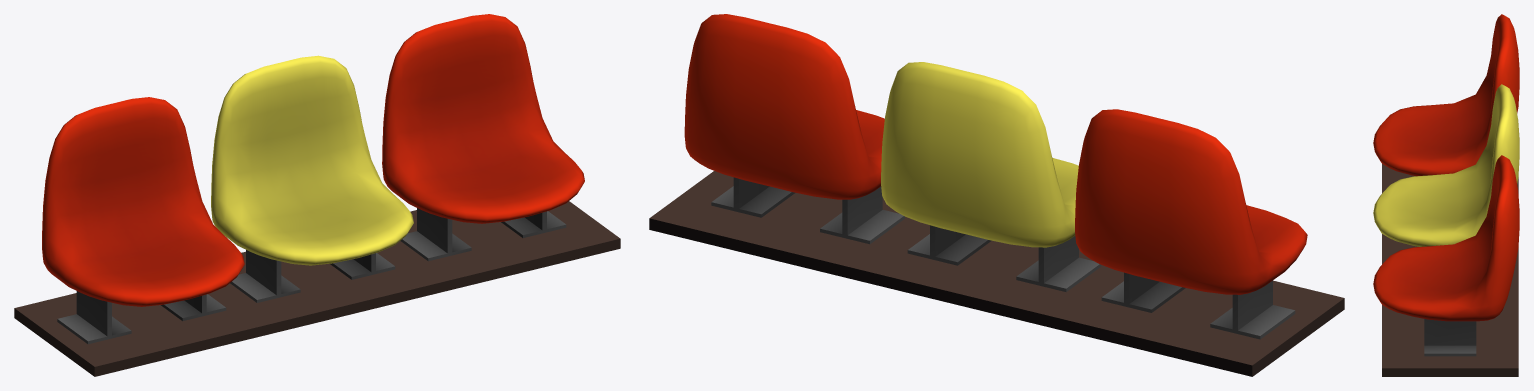
The model's file is StadiumChairs_Three.fbx.
3 views of the same model, side by side, from view 1: azimuth 30°, elevation 25°; view 2: azimuth 150°, elevation 25°; view 3: azimuth 270°, elevation 25° (orthographic). The views are drawn at different scales.
Visible parts, largest first — view 1: StadiumChairs_Three; view 2: StadiumChairs_Three; view 3: StadiumChairs_Three.
Boxes of the visible parts, x1=… form: StadiumChairs_Three: x1=14, y1=14, x2=620, y2=376; StadiumChairs_Three: x1=649, y1=14, x2=1344, y2=376; StadiumChairs_Three: x1=1373, y1=14, x2=1519, y2=376.
Size of the model in its own units: 235 by 84.77 by 66.82.
